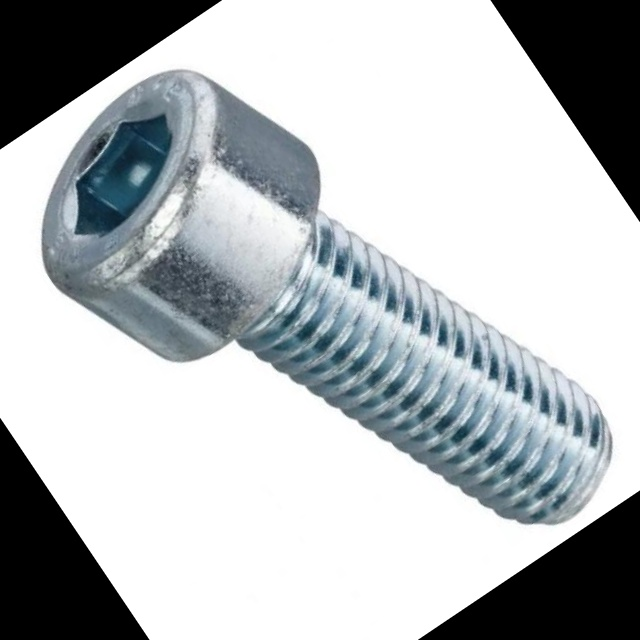allen: (0, 49, 270, 311)
